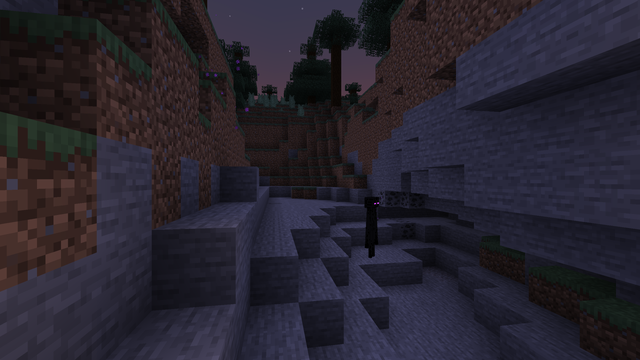endermens: (363, 194, 379, 258)
